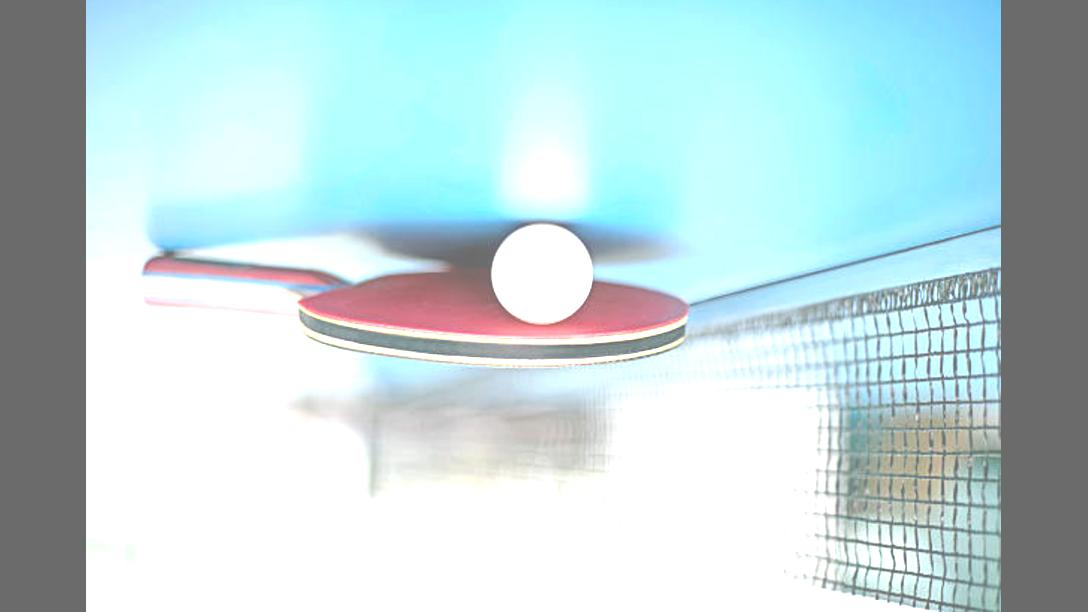Table-Tennis-Ball: (496, 226, 590, 326)
